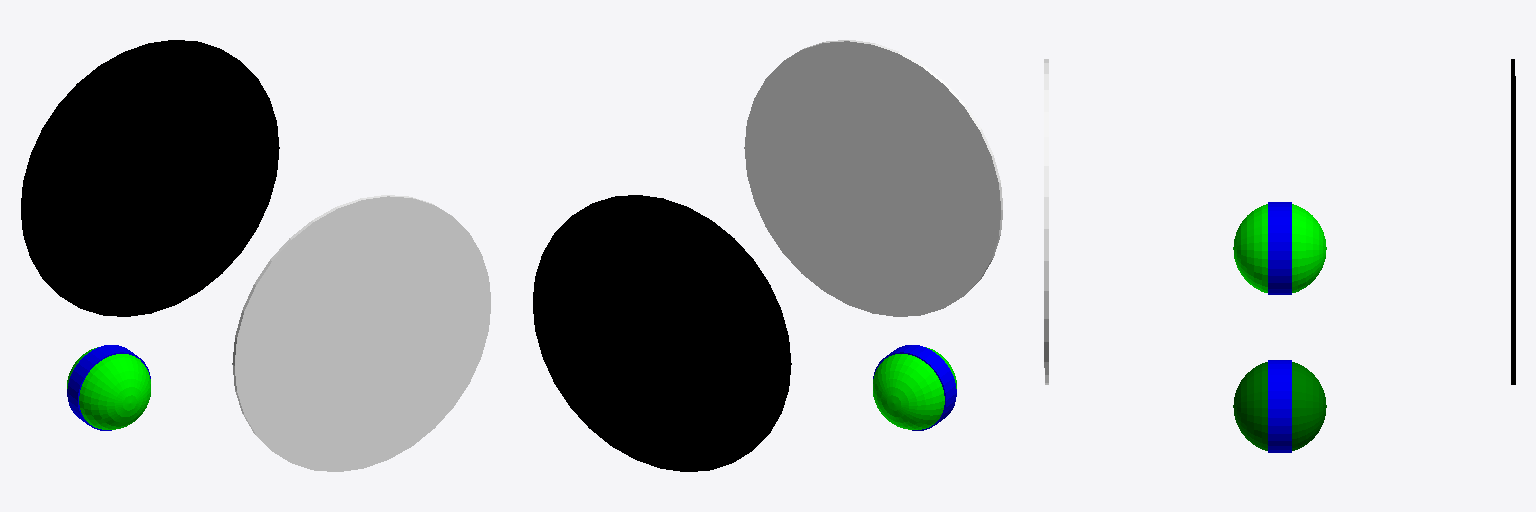
The robot description file, URDF, robot "box_bot":
<?xml version="1.0"?>
<robot name="box_bot">

    <material name="red">
        <color rgba="1.0 0.0 0.0 1"/>
    </material>

    <material name="green_light">
        <color rgba="0.0 1.0 0.0 1"/>
    </material>

    <material name="green_dark">
        <color rgba="0.0 0.5 0.0 1"/>
    </material>

    <material name="blue">
        <color rgba="0.0 0.0 1.0 1"/>
    </material>

    <material name="black">
        <color rgba="0.0 0.0 0.0 1"/>
    </material>

    <material name="white">
        <color rgba="1.0 1.0 1.0 1"/>
    </material>

    <material name="box_bot_blue">
        <color rgba="0.088656 0.428691 0.491021 1"/>
    </material>

    <link name="base_link">
    </link>


    <!-- Body -->
    <link name="chassis">
        <visual>
            <geometry>
                <mesh filename="package://my_box_bot_description/meshes/cute_cube.dae" scale="0.1 0.1 0.1"/>
            </geometry>
            <material name="box_bot_blue"/>
        </visual>
    </link>

    <joint name="base_link_joint" type="fixed">
        <origin rpy="0 0 0" xyz="0 0 0" />
        <parent link="base_link" />
        <child link="chassis" />
    </joint>

    <!-- Wheel Left -->
    <link name="left_wheel">
        <visual>
            <origin rpy="0 1.5707 1.5707" xyz="0 0 0"/>
            <geometry>
                <cylinder length="0.001" radius="0.035"/>
            </geometry>
            <material name="black"/>
        </visual>
    </link>

    <joint name="joint_left_wheel" type="continuous">
        <origin rpy="0 0 0" xyz="0 0.05 -0.025"/>
        <child link="left_wheel"/>
        <parent link="chassis"/>
        <axis rpy="0 0 0" xyz="0 1 0"/>
        <limit effort="10000" velocity="1000"/>
        <joint_properties damping="1.0" friction="1.0"/>
    </joint>

    <!-- Wheel Right -->
    <link name="right_wheel">
        <visual>
            <origin rpy="0 1.5707 1.5707" xyz="0 0 0"/>
            <geometry>
                <cylinder length="0.001" radius="0.035"/>
            </geometry>
            <material name="white"/>
        </visual>
    </link>

    <joint name="joint_right_wheel" type="continuous">
        <origin rpy="0 0 0" xyz="0 -0.05 -0.025"/>
        <child link="right_wheel"/>
        <parent link="chassis"/>
        <axis rpy="0 0 0" xyz="0 1 0"/>
        <limit effort="10000" velocity="1000"/>
        <joint_properties damping="1.0" friction="1.0"/>
    </joint>


    <!-- Caster Wheel Front -->
    <link name="front_yaw_link">
        <visual>
            <origin rpy="0 1.5707 1.5707" xyz="0 0 0"/>
            <geometry>
                <cylinder length="0.005" radius="0.010"/>
            </geometry>
            <material name="blue"/>
        </visual>
    </link>

    <joint name="front_yaw_joint" type="continuous">
        <origin rpy="0 0 0" xyz="0.04 0 -0.05" />
        <parent link="chassis" />
        <child link="front_yaw_link" />
        <axis xyz="0 0 1" />
        <limit effort="1000.0" velocity="100.0" />
        <dynamics damping="0.0" friction="0.1"/>
    </joint>


    <link name="front_roll_link">
        <visual>
            <origin rpy="0 1.5707 1.5707" xyz="0 0 0"/>
            <geometry>
                <cylinder length="0.005" radius="0.010"/>
            </geometry>
            <material name="red"/>
        </visual>
    </link>

    <joint name="front_roll_joint" type="continuous">
        <origin rpy="0 0 0" xyz="0 0 0" />
        <parent link="front_yaw_link" />
        <child link="front_roll_link" />
        <axis xyz="1 0 0" />
        <limit effort="1000.0" velocity="100.0" />
        <dynamics damping="0.0" friction="0.1"/>
    </joint>


    <link name="front_pitch_link">
        <visual>
            <origin rpy="0 1.5707 1.5707" xyz="0 0 0"/>
            <geometry>
                <sphere radius="0.010"/>
            </geometry>
            <material name="green_dark"/>
        </visual>
    </link>

    <joint name="front_pitch_joint" type="continuous">
        <origin rpy="0 0 0" xyz="0 0 0" />
        <parent link="front_roll_link" />
        <child link="front_pitch_link" />
        <axis xyz="0 1 0" />
        <limit effort="1000.0" velocity="100.0" />
        <dynamics damping="0.0" friction="0.1"/>
    </joint>

    <!-- Caster Wheel Back -->
    <link name="back_yaw_link">
        <visual>
            <origin rpy="0 1.5707 1.5707" xyz="0 0 0"/>
            <geometry>
                <cylinder length="0.005" radius="0.010"/>
            </geometry>
            <material name="blue"/>
        </visual>
    </link>

    <joint name="back_yaw_joint" type="continuous">
        <origin rpy="0 0 0" xyz="-0.04 0 -0.05" />
        <parent link="chassis" />
        <child link="back_yaw_link" />
        <axis xyz="0 0 1" />
        <limit effort="1000.0" velocity="100.0" />
        <dynamics damping="0.0" friction="0.1"/>
    </joint>


    <link name="back_roll_link">
        <visual>
            <origin rpy="0 1.5707 1.5707" xyz="0 0 0"/>
            <geometry>
                <cylinder length="0.005" radius="0.010"/>
            </geometry>
            <material name="red"/>
        </visual>
    </link>

    <joint name="back_roll_joint" type="continuous">
        <origin rpy="0 0 0" xyz="0 0 0" />
        <parent link="back_yaw_link" />
        <child link="back_roll_link" />
        <axis xyz="1 0 0" />
        <limit effort="1000.0" velocity="100.0" />
        <dynamics damping="0.0" friction="0.1"/>
    </joint>

    <link name="back_pitch_link">
        <visual>
            <origin rpy="0 1.5707 1.5707" xyz="0 0 0"/>
            <geometry>
                <sphere radius="0.010"/>
            </geometry>
            <material name="green_light"/>
        </visual>
    </link>

    <joint name="back_pitch_joint" type="continuous">
        <origin rpy="0 0 0" xyz="0 0 0" />
        <parent link="back_roll_link" />
        <child link="back_pitch_link" />
        <axis xyz="0 1 0" />
        <limit effort="1000.0" velocity="100.0" />
        <dynamics damping="0.0" friction="0.1"/>
    </joint>

</robot>

--- Facts derived from the render (not from the file) ---
3 views of the same robot in one strip: view 1: azimuth 30°, elevation 25°; view 2: azimuth 150°, elevation 25°; view 3: azimuth 270°, elevation 25° (orthographic).
Robot: box_bot — 10 links, 9 joints (8 continuous, 1 fixed); root link base_link; default pose: all joints at 0.
Links seen in each view (by area): view 1: left_wheel, right_wheel, back_pitch_link, back_yaw_link; view 2: left_wheel, right_wheel, back_pitch_link, back_yaw_link; view 3: front_pitch_link, back_pitch_link, front_yaw_link, back_yaw_link, left_wheel, right_wheel.
Link boxes in pixels (box(x1,y1,x2,y2)): left_wheel: box(21, 40, 279, 316); right_wheel: box(232, 195, 490, 471); back_pitch_link: box(67, 347, 150, 429); back_yaw_link: box(67, 345, 150, 430); left_wheel: box(533, 195, 791, 471); right_wheel: box(744, 40, 1002, 316); back_pitch_link: box(873, 347, 956, 429); back_yaw_link: box(873, 345, 956, 430); front_pitch_link: box(1233, 362, 1326, 450); back_pitch_link: box(1233, 204, 1326, 292); front_yaw_link: box(1268, 360, 1291, 452); back_yaw_link: box(1268, 202, 1291, 294); left_wheel: box(1511, 59, 1515, 384); right_wheel: box(1044, 59, 1048, 384).
Bounding box of the posed robot: 0.1 × 0.101 × 0.07 m (x, y, z).
0 mesh visuals loaded from 1 distinct referenced files (none loaded); not drawn: 1 (file found but could not be loaded).